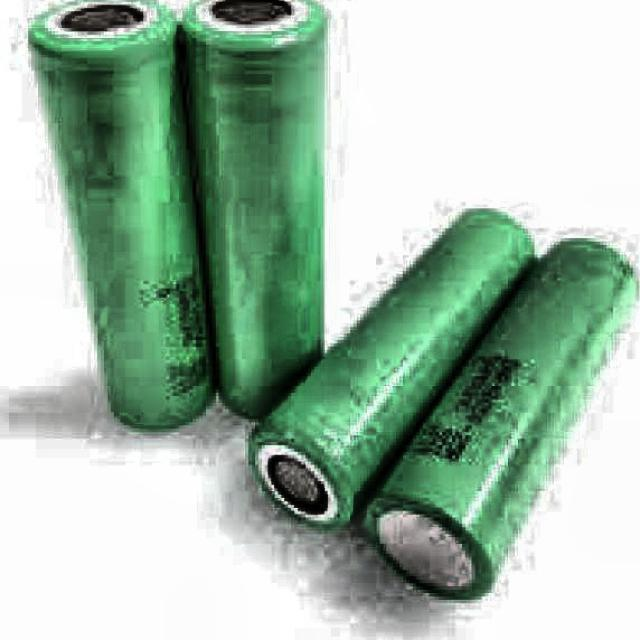battery: (362, 238, 640, 601), (252, 212, 524, 524), (32, 0, 209, 426), (183, 0, 324, 416)
